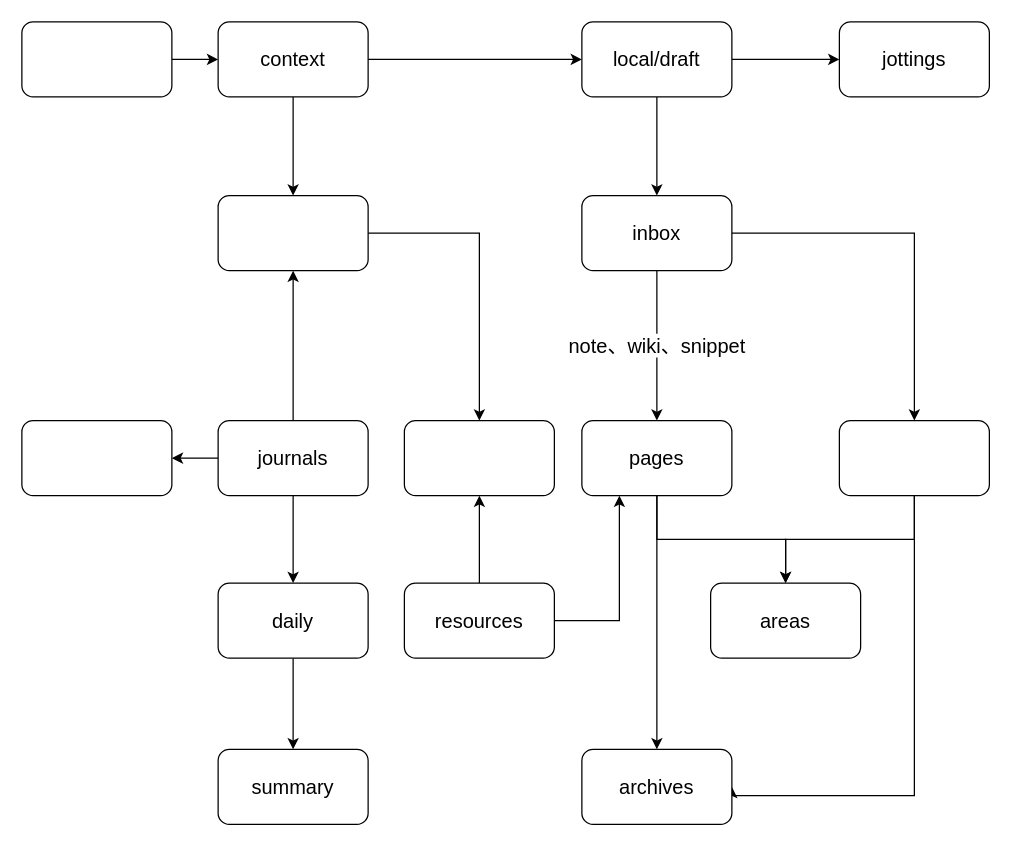
The diagram is 1011 pixels wide and 846 high, and some of its shapes have lost their labels. Each missing label, with the centre of its shape:
agenda: [292,232]
Introspection: [96,59]
memo: [96,457]
projects: [478,457]
thoughts: [913,457]
